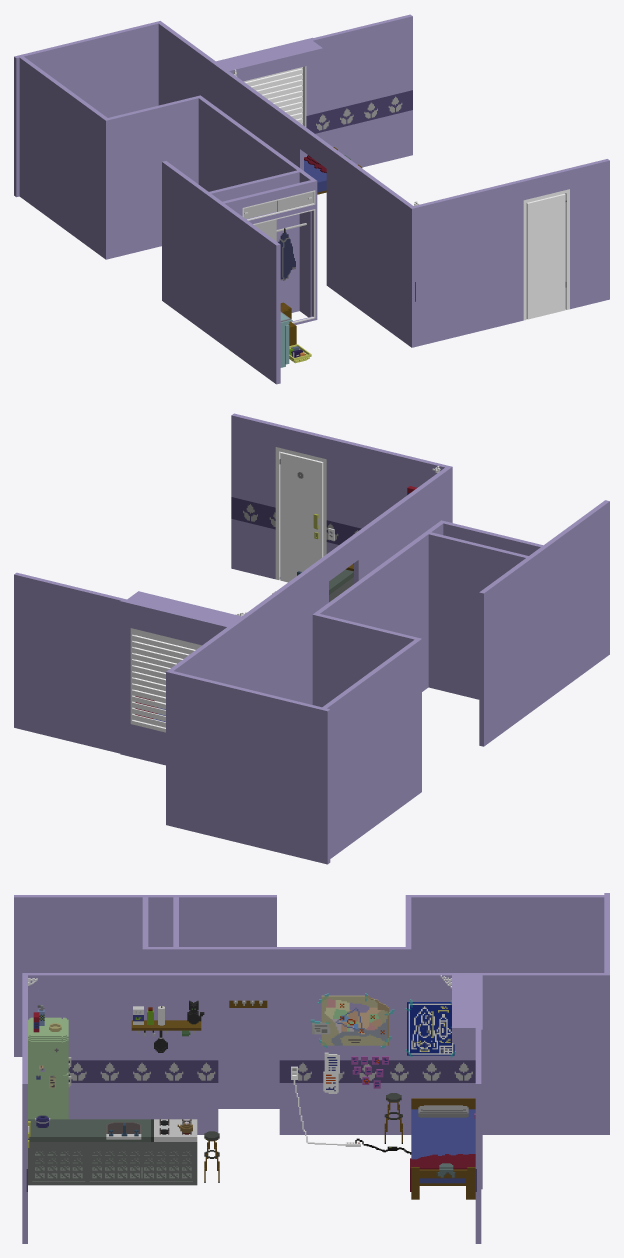
3 views of the same model, one above another, from view 1: azimuth 30°, elevation 25°; view 2: azimuth 150°, elevation 25°; view 3: azimuth 270°, elevation 25° (orthographic). The views are drawn at different scales.
Parts seen in each view (by area): view 1: ObjObject; view 2: ObjObject; view 3: ObjObject.
Boxes of the visible parts, <box> form: ObjObject: <box>14,14,609,384</box>; ObjObject: <box>14,413,609,864</box>; ObjObject: <box>14,893,609,1243</box>.
Size of the model in its own units: 5.85 by 2.28 by 7.72.
Materials: 60 (60 with a texture image).
